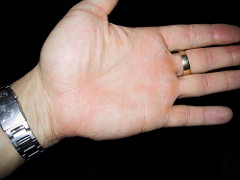palm: (47, 16, 176, 140)
